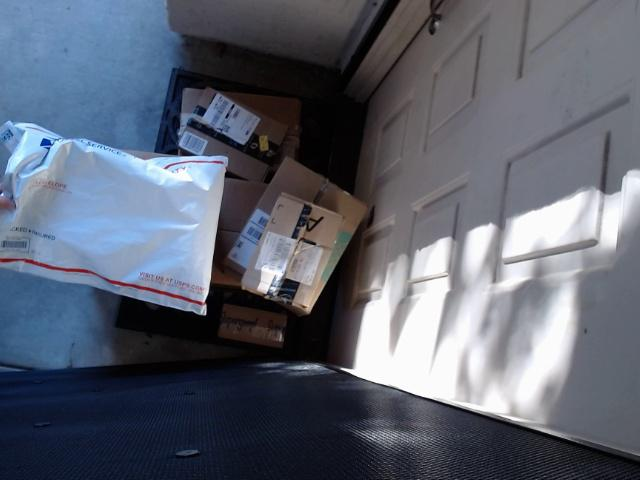box: (159, 58, 314, 188), (237, 156, 361, 316), (226, 302, 316, 353)
plastic_bag: (0, 115, 226, 321)
